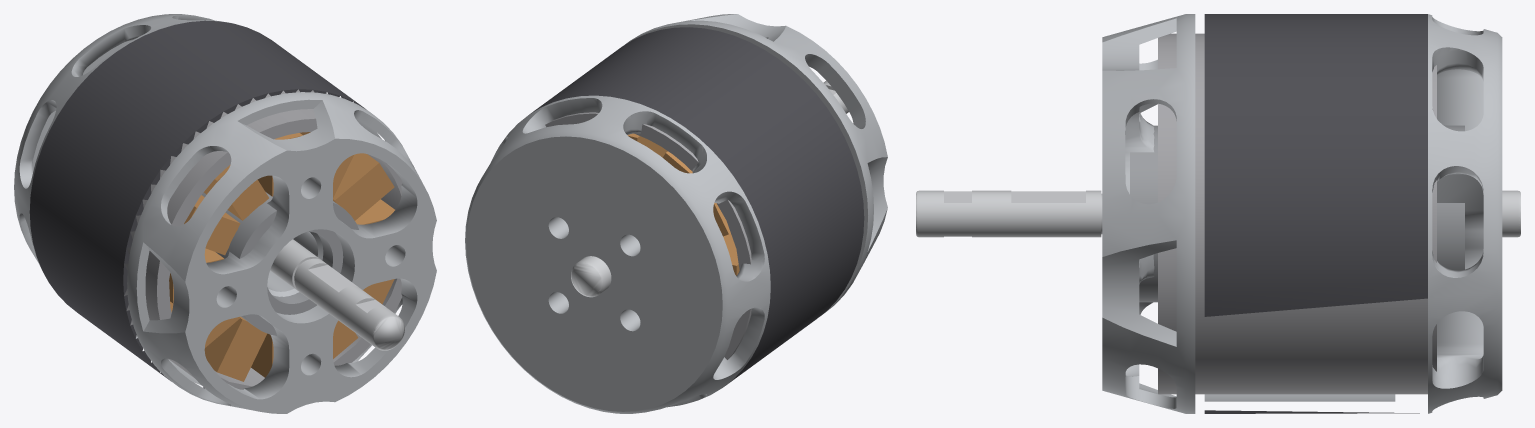
The model's file is motor_pusher.glb.
3 renders of one model, left to right at view 1: azimuth 30°, elevation 25°; view 2: azimuth 150°, elevation 25°; view 3: azimuth 270°, elevation 25°, orthographic. The views are drawn at different scales.
Parts seen in each view (by area): view 1: c_7f848c, c_141416, enamel, magnet, steel, grey_metal; view 2: c_7f848c, c_141416, magnet, steel, enamel; view 3: c_141416, c_7f848c, magnet, steel, grey_metal.
Part boxes in pixels (x1,y1,x2,y2): c_7f848c: [14, 14, 436, 413]; c_141416: [29, 20, 366, 388]; enamel: [169, 132, 394, 381]; magnet: [124, 89, 402, 389]; steel: [270, 239, 404, 350]; grey_metal: [202, 192, 358, 335]; c_7f848c: [465, 14, 887, 413]; c_141416: [530, 27, 864, 385]; magnet: [545, 112, 751, 359]; steel: [571, 80, 848, 297]; enamel: [627, 133, 739, 275]; c_141416: [1204, 14, 1427, 413]; c_7f848c: [1102, 14, 1502, 413]; magnet: [1158, 33, 1436, 394]; steel: [916, 190, 1520, 237]; grey_metal: [1130, 125, 1464, 302].
Bounding box in the file's own units: 0.043 × 0.043 × 0.065.
